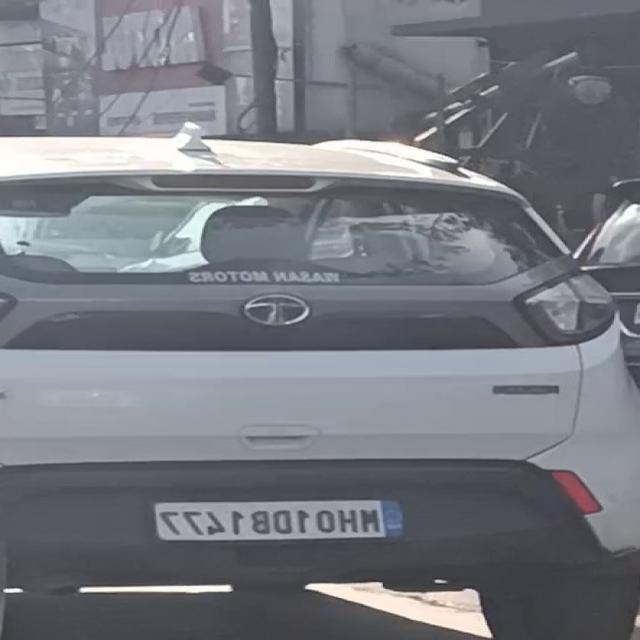license_plate: (149, 496, 411, 548)
